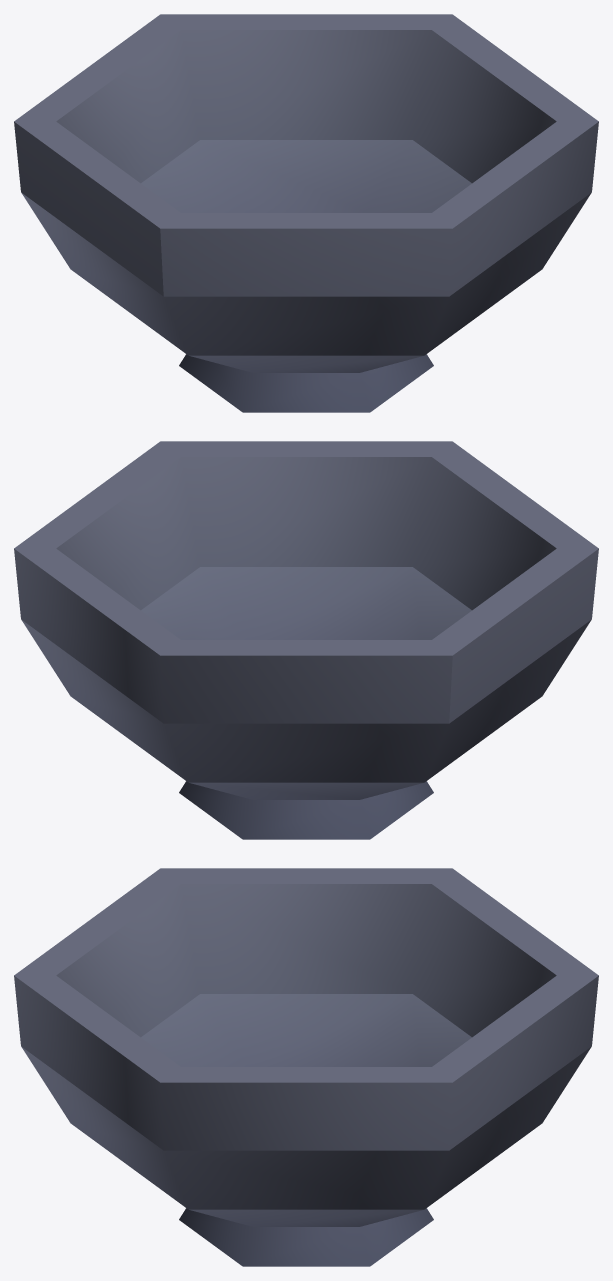
File: mortar.glb
The picture shows the model from 3 angles, top to bottom: view 1: azimuth 30°, elevation 25°; view 2: azimuth 150°, elevation 25°; view 3: azimuth 270°, elevation 25°; orthographic projection.
Parts seen in each view (by area): view 1: mortar; view 2: mortar; view 3: mortar.
Boxes of the visible parts, <box> form: mortar: <box>14,14,598,412</box>; mortar: <box>14,441,598,839</box>; mortar: <box>14,868,598,1266</box>.
Size of the model in its own units: 0.3955 by 0.2104 by 0.4567.
